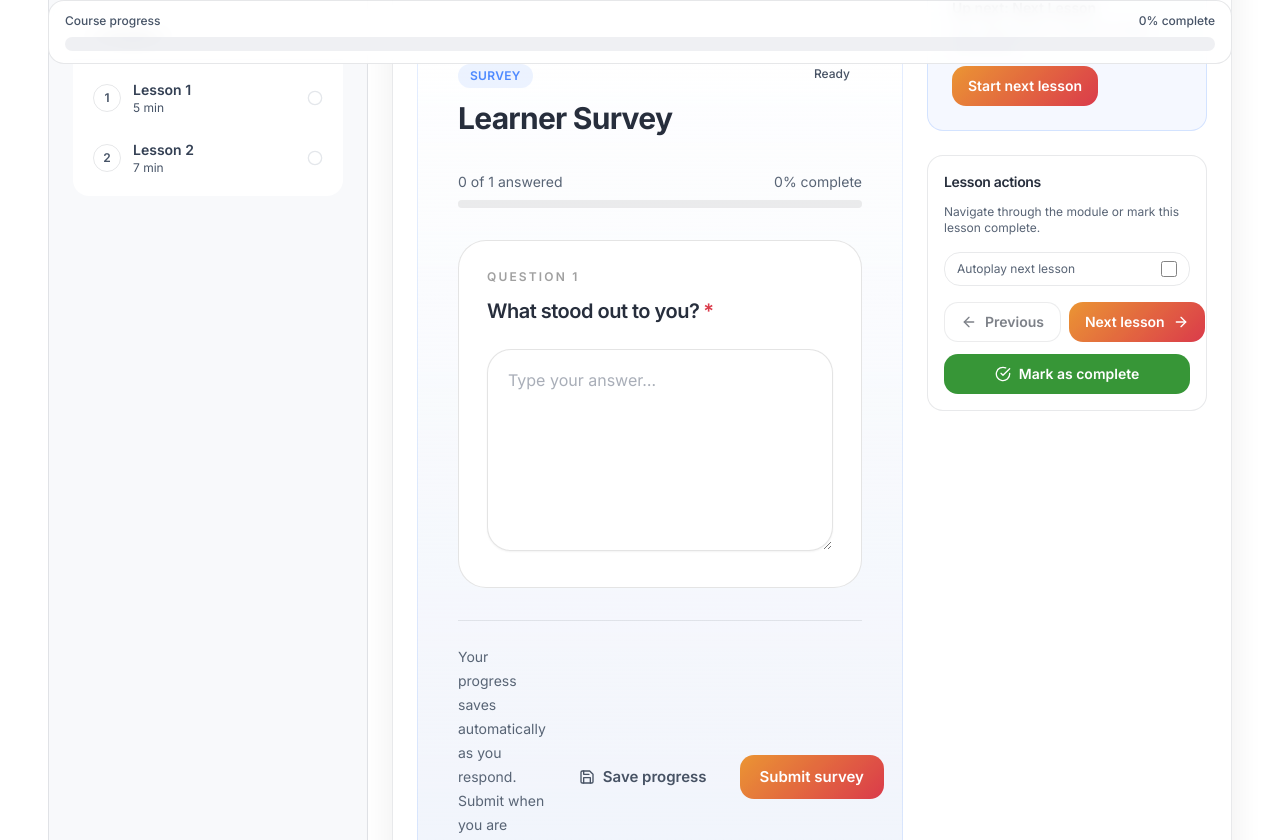
it: CoursePlayer progress integration › does not show survey success or advance when submission fails
(page scrolled)
Type "The pacing felt clear." into the text box with placeholder "Type your answer…".
click(660, 450); type("The pacing felt clear.")  # box [487,349,833,551]
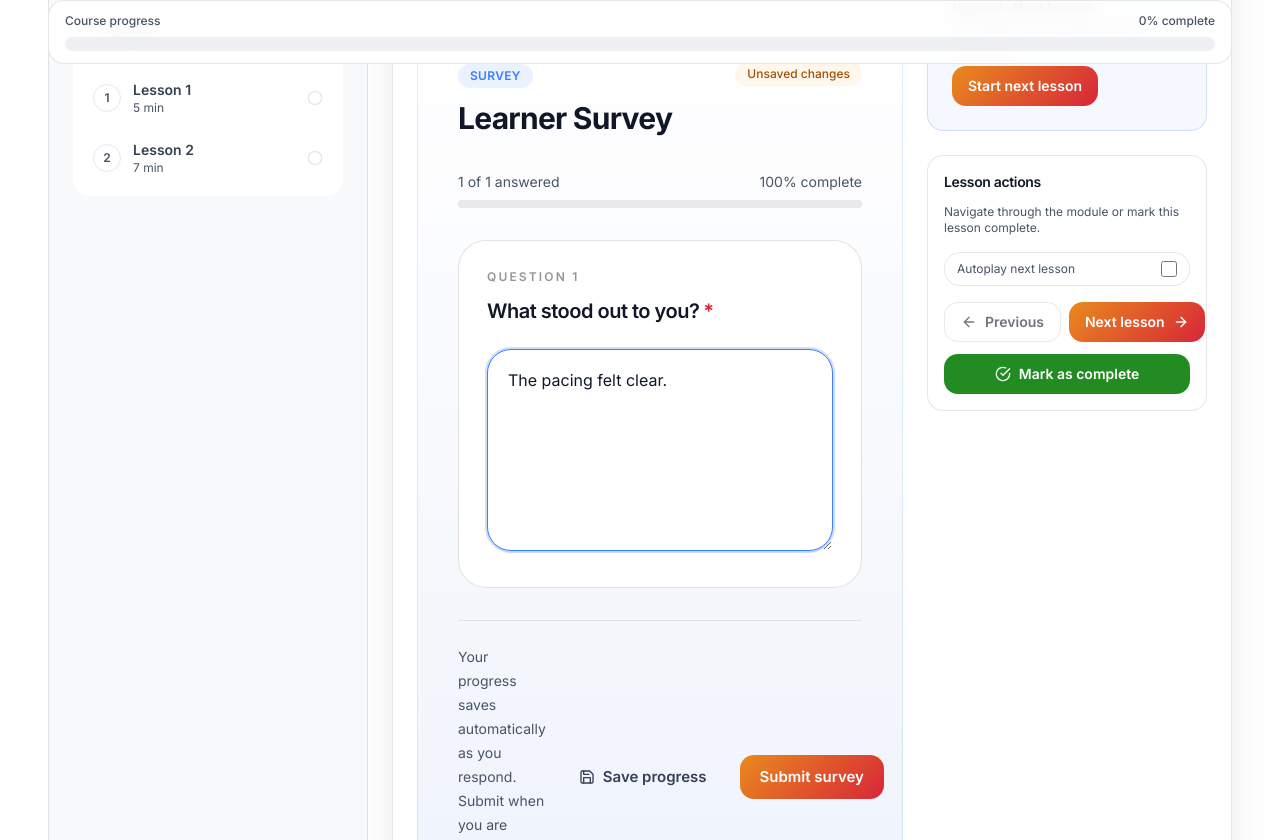
Click the button "Submit survey".
click(812, 777)  # box [740,755,884,799]
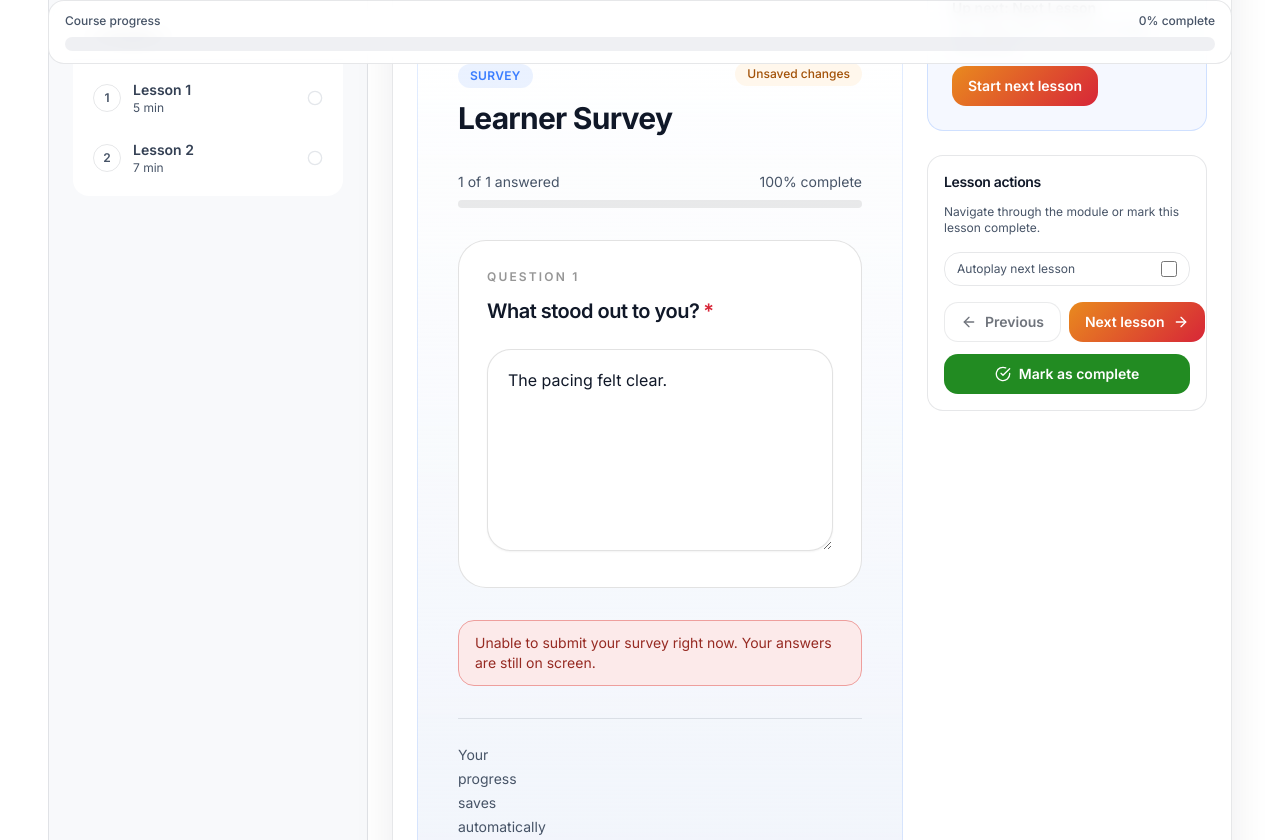
Check: the heading "Learner Survey" is shown, box [458,100,672,136]
Check: the text "Unable to submit your survey right now. Your answers are still on screen." is shown, box [458,620,862,686]
